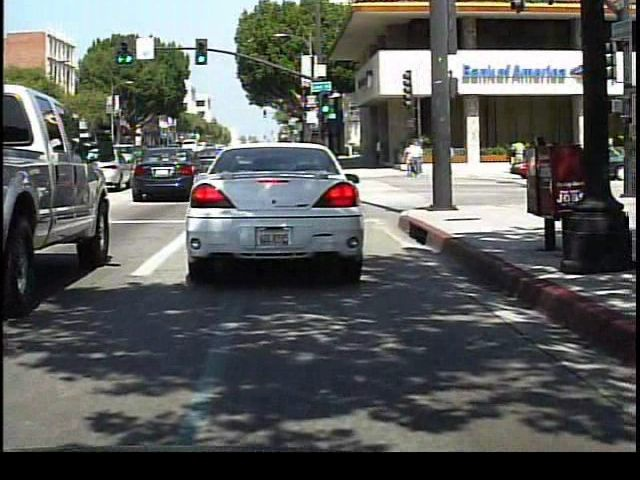person: (507, 135, 528, 176), (405, 136, 424, 179), (438, 136, 456, 173)
